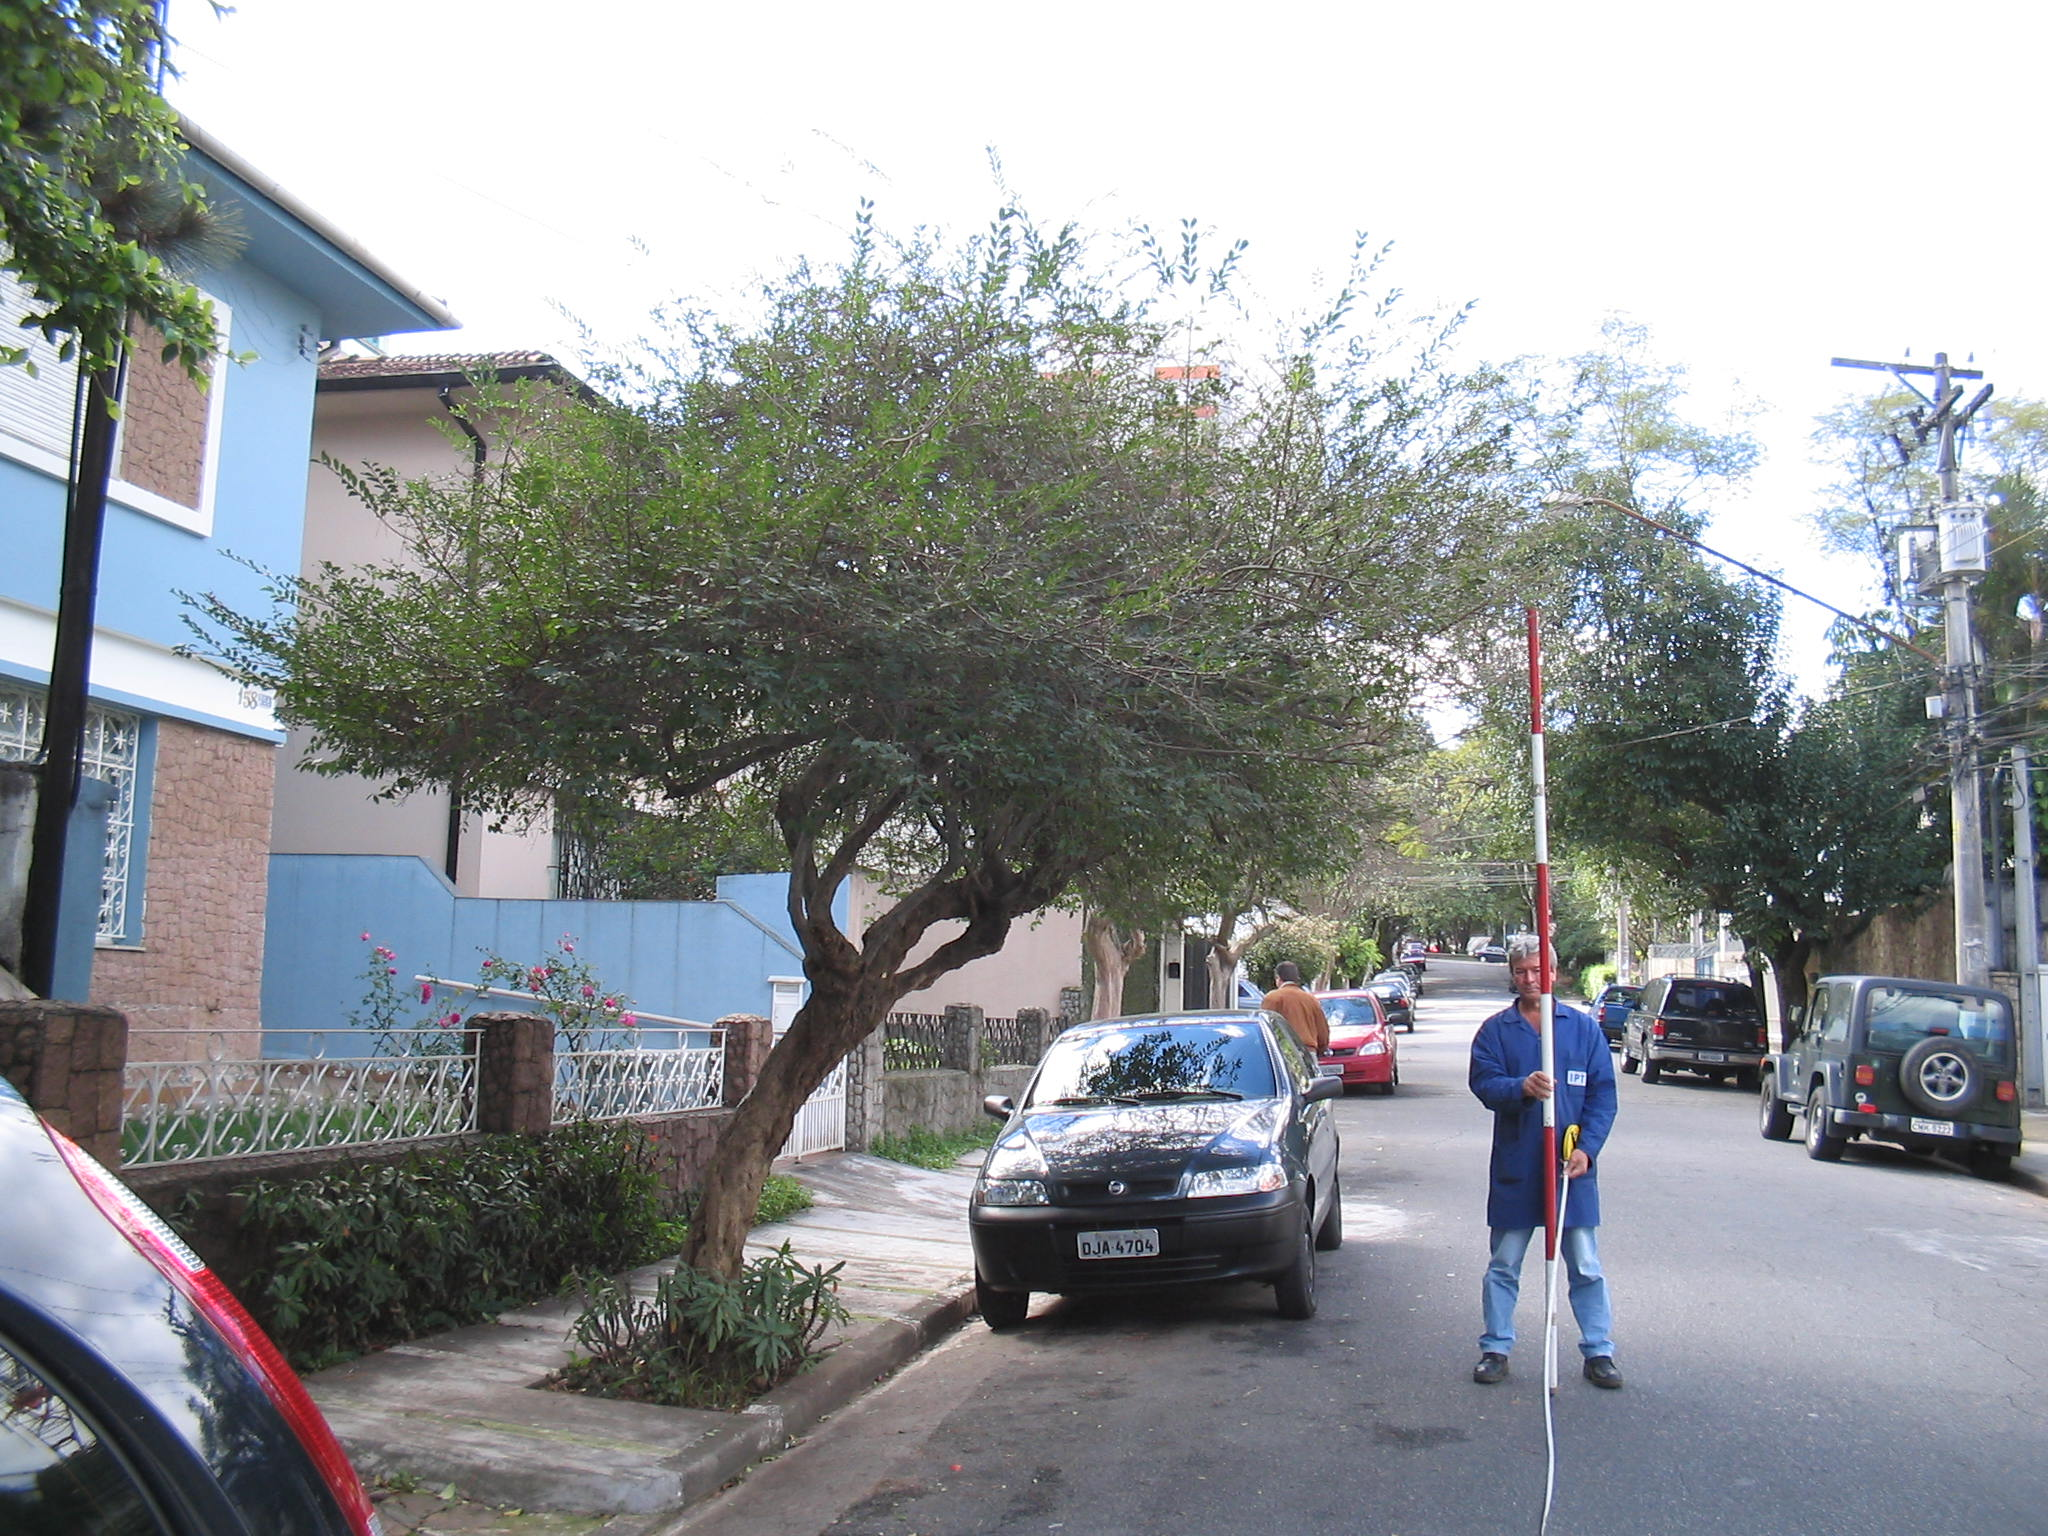crown: (192, 158, 1588, 978), (1579, 544, 1995, 949)
stem: (627, 978, 922, 1355), (1750, 960, 1827, 1063)
stick: (1505, 597, 1600, 1392)
tree: (185, 152, 1598, 1360), (1566, 536, 2001, 1065)
